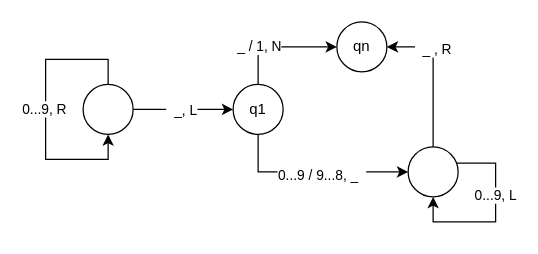
Image size: 538x254. Some labels were removed from this diagram. The centre of each missing label's shape, as x and y in pixels:
q0: (x=107, y=108)
q2: (x=432, y=171)
